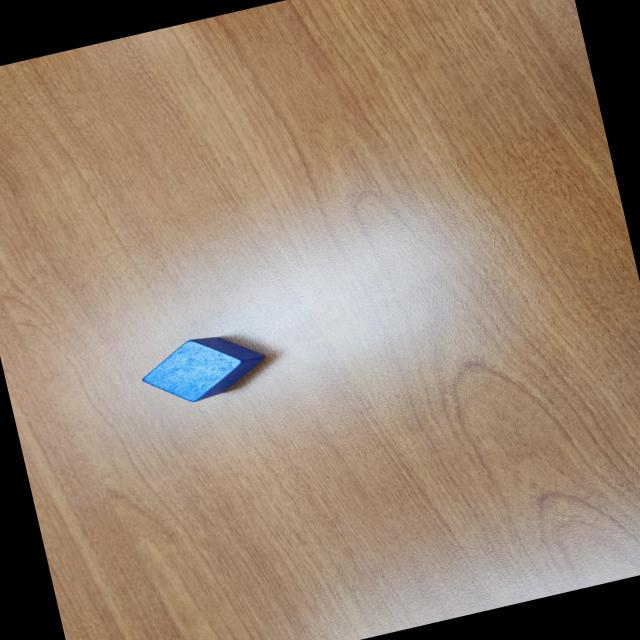blue: (134, 323, 274, 412)
